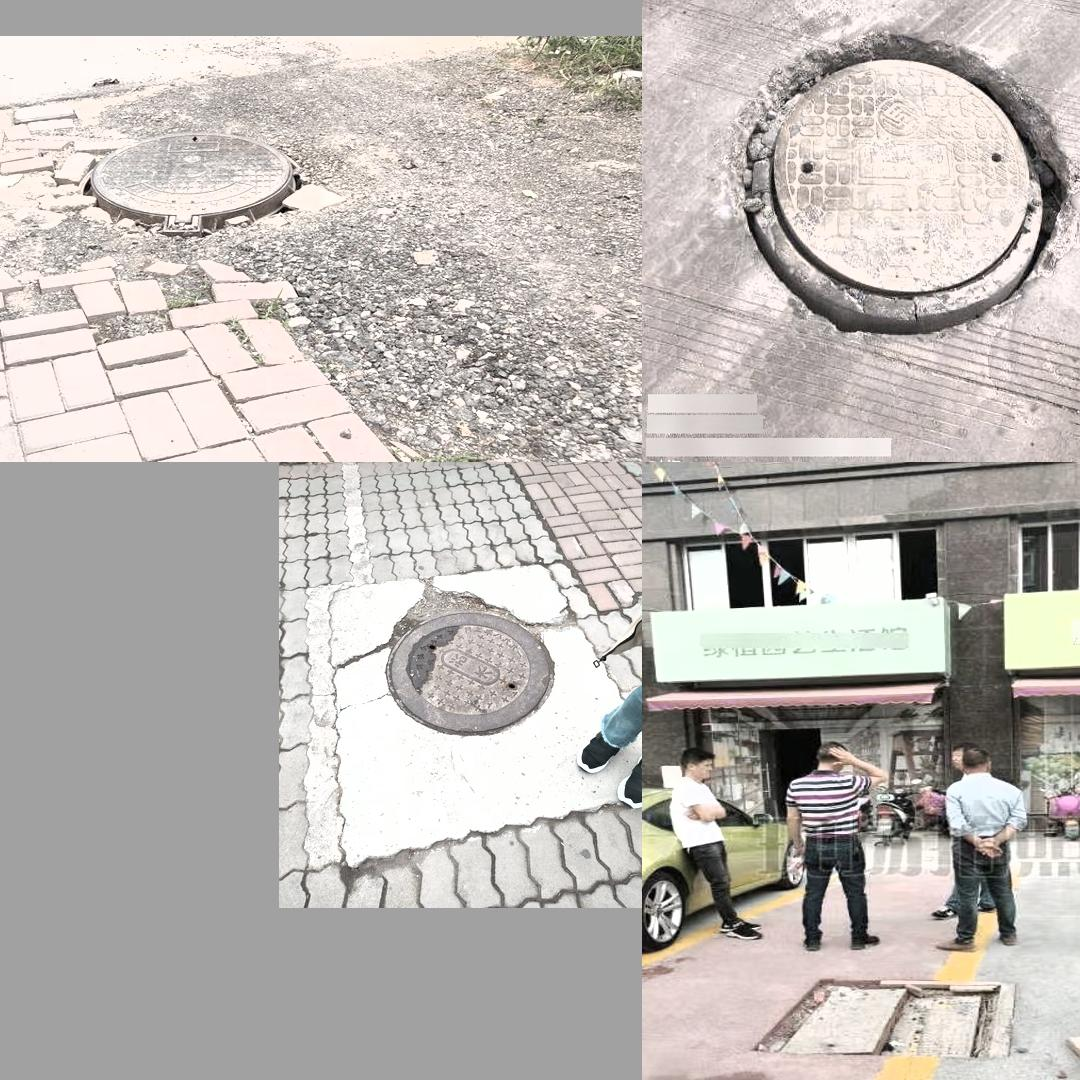circle: (735, 35, 1066, 341), (6, 102, 363, 272), (343, 581, 586, 756), (764, 980, 1014, 1061)
